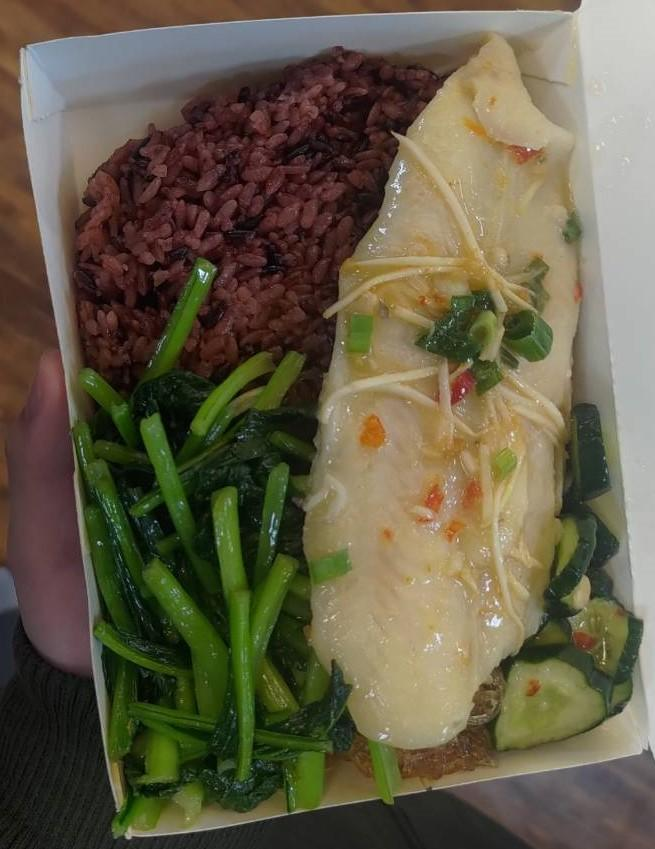big grilled chicken leg: (12, 6, 653, 847)
braised fish: (72, 49, 484, 408)
braised fish fillet: (72, 374, 327, 810), (492, 386, 630, 752)
braised pork ribs: (294, 32, 594, 752)
